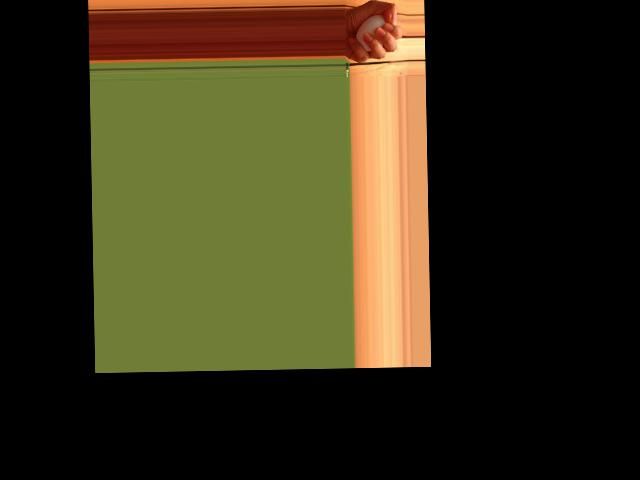egg: (355, 14, 389, 52)
